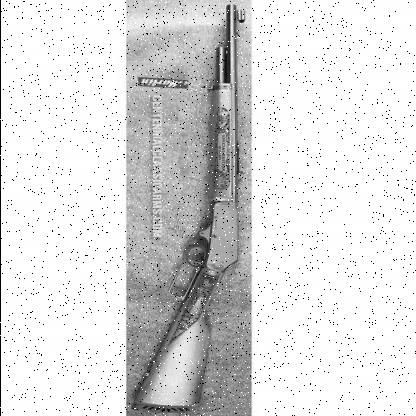rifle: (128, 0, 248, 415)
